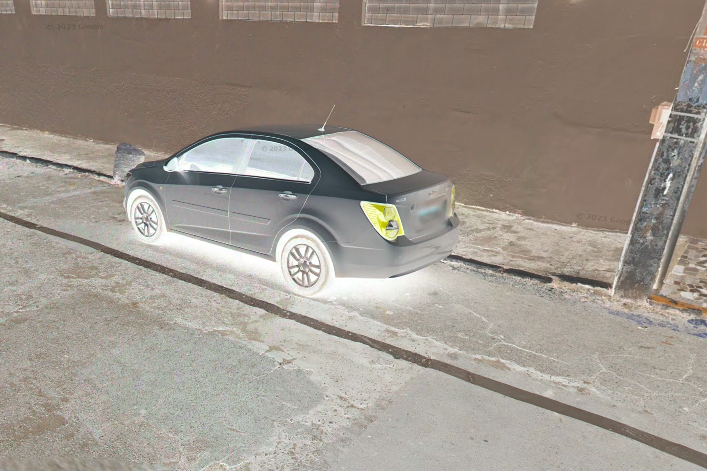car: (120, 94, 466, 311)
